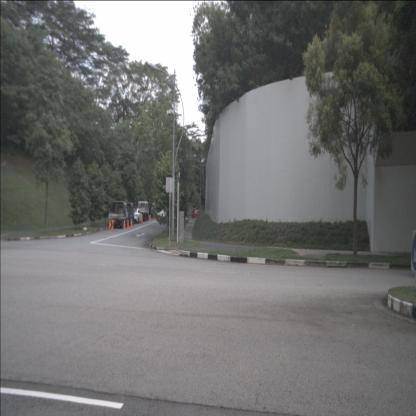cone: (127, 218, 130, 229), (123, 219, 126, 229), (130, 218, 133, 227)
